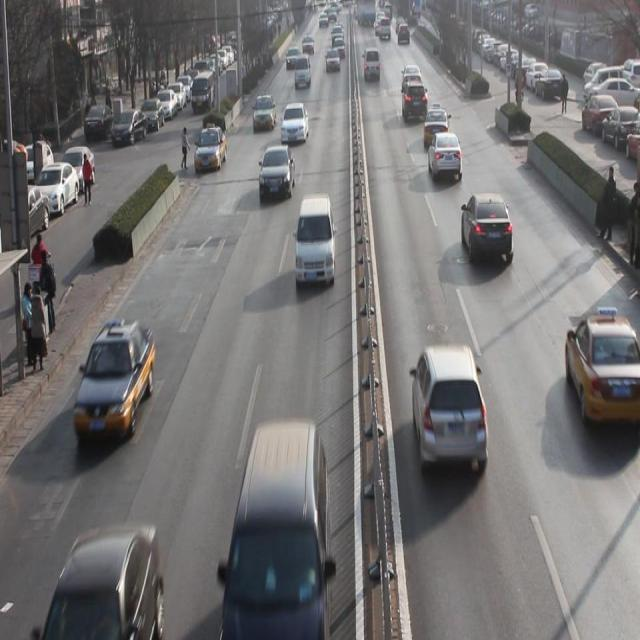car: (46, 527, 162, 640), (410, 340, 489, 474), (563, 308, 640, 430), (77, 324, 155, 438), (462, 191, 514, 266), (258, 147, 295, 203), (427, 131, 464, 180), (194, 126, 228, 171), (280, 100, 309, 144), (423, 102, 448, 148), (402, 79, 428, 121), (253, 92, 275, 130)
truck: (226, 428, 333, 633), (296, 194, 337, 290), (293, 53, 311, 89)
